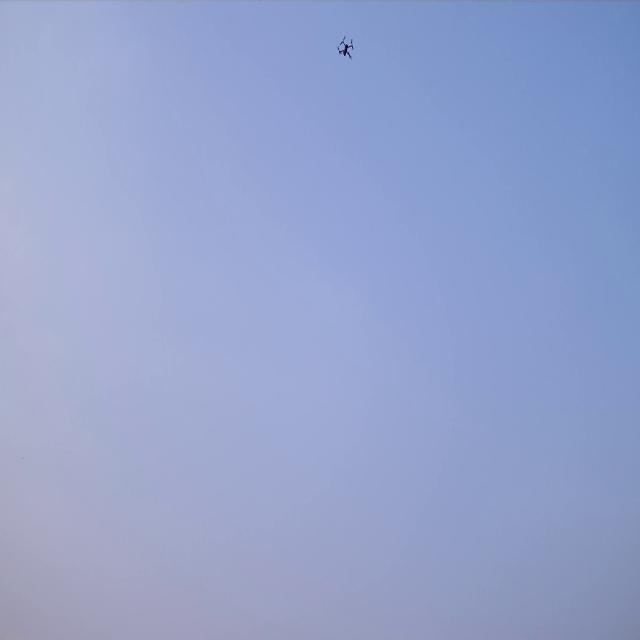UAV: (338, 40, 353, 58)
